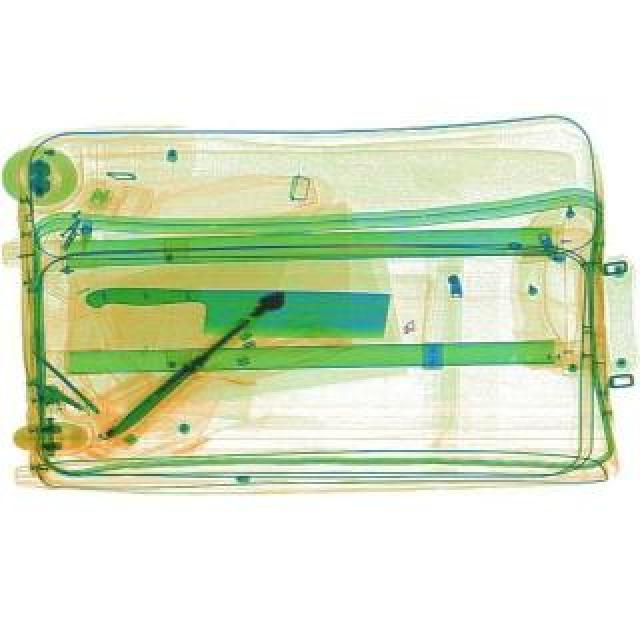knife: (86, 288, 392, 336)
